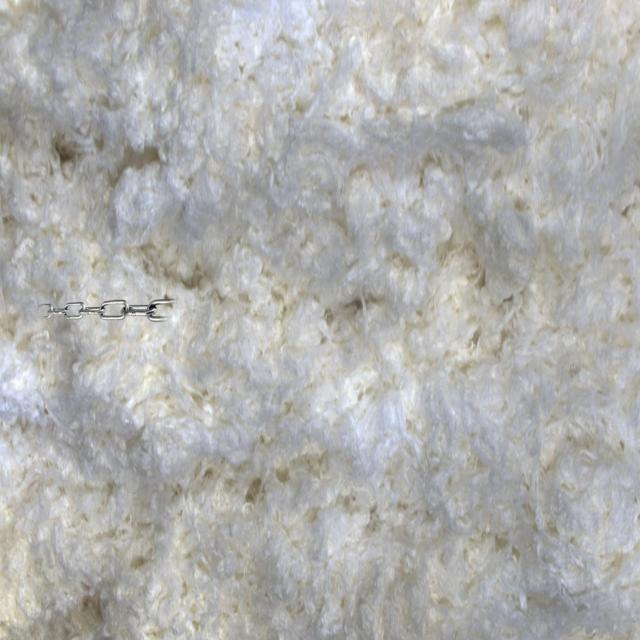dust: (27, 254, 188, 394)
